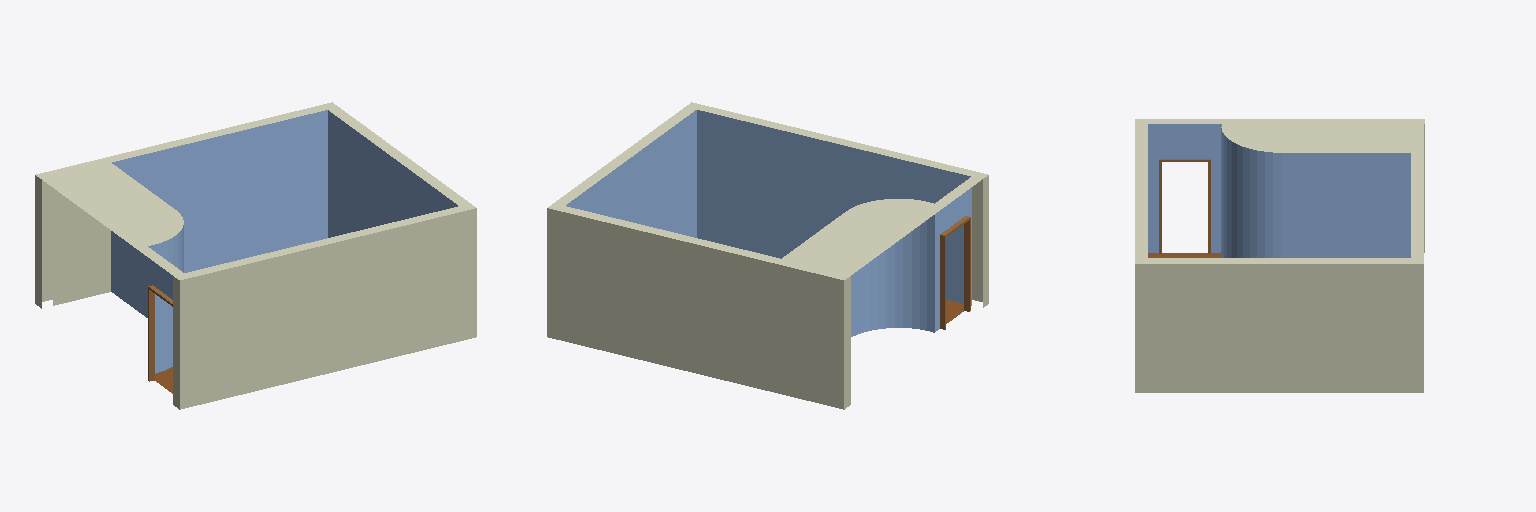
File: walls.obj
3 renders of one model, left to right at view 1: azimuth 30°, elevation 25°; view 2: azimuth 150°, elevation 25°; view 3: azimuth 270°, elevation 25°, orthographic.
Size of the model in its own units: 428 by 178 by 361.